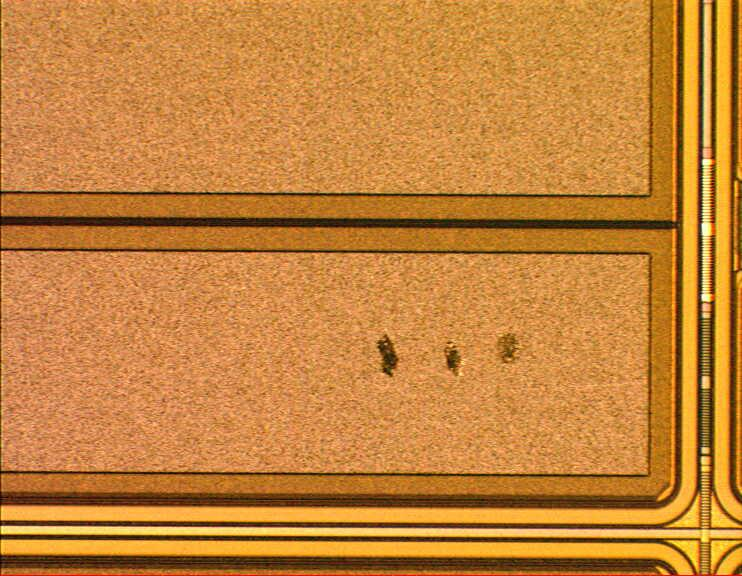SCRATCH: (363, 314, 532, 392)
